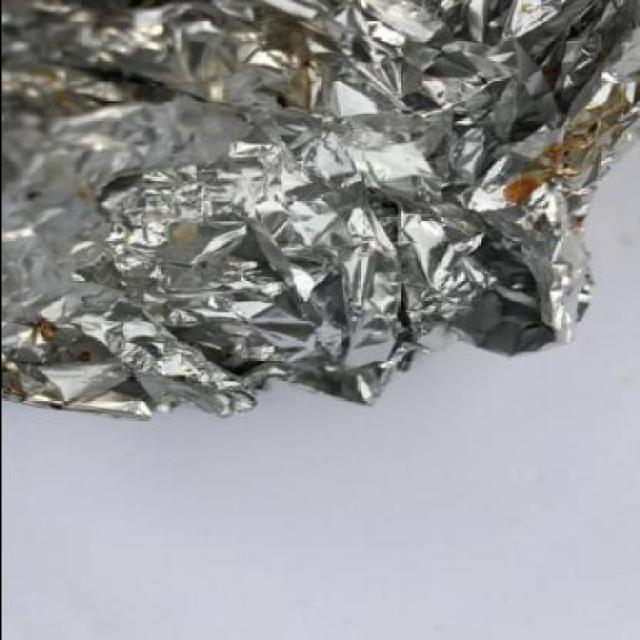METAL: (1, 2, 638, 423)
